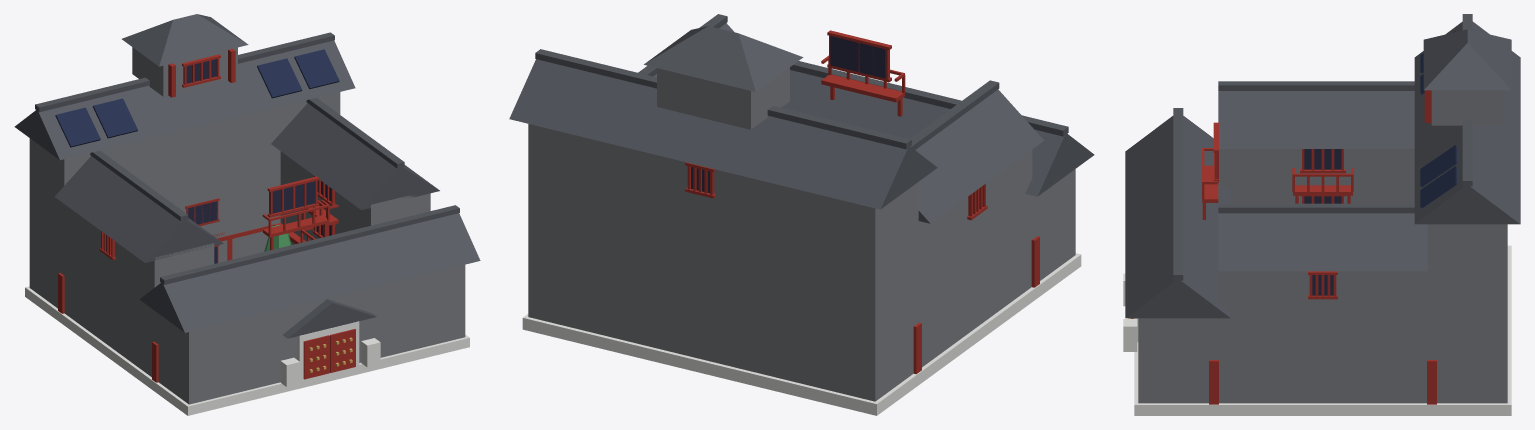
File: house-2x2-5f-siheyuan-a-solar.glb
The picture shows the model from 3 angles, left to right: view 1: azimuth 30°, elevation 25°; view 2: azimuth 150°, elevation 25°; view 3: azimuth 270°, elevation 25°; orthographic projection. The views are drawn at different scales.
Visible parts, largest first — view 1: house-2x2-5f-siheyuan-a-solar; view 2: house-2x2-5f-siheyuan-a-solar; view 3: house-2x2-5f-siheyuan-a-solar.
Part boxes in pixels (x1,y1,x2,y2): house-2x2-5f-siheyuan-a-solar: (14,14,480,415); house-2x2-5f-siheyuan-a-solar: (509,14,1094,415); house-2x2-5f-siheyuan-a-solar: (1123,14,1520,415).
Size of the model in its own units: 1.98 by 1.66 by 1.99.
1 material, 1 textured.
